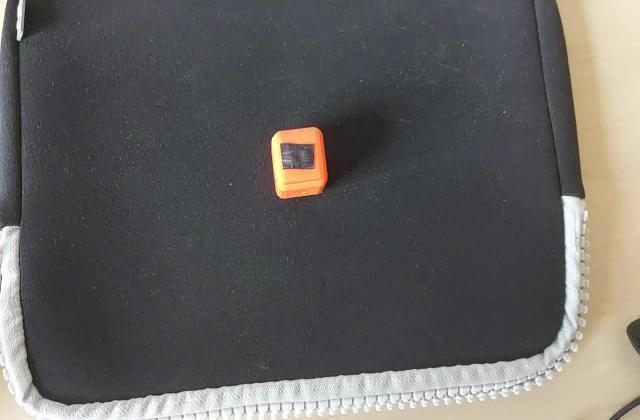black: (276, 140, 318, 172)
sticker: (269, 124, 331, 202)
